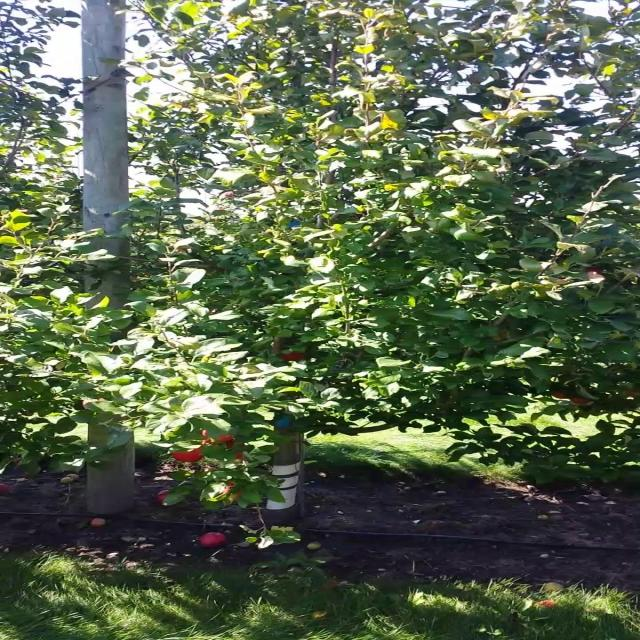apple: (198, 428, 235, 445), (170, 448, 206, 464), (276, 348, 306, 363), (220, 484, 242, 501), (234, 440, 249, 460), (84, 396, 107, 405), (589, 268, 604, 280), (284, 356, 306, 363), (575, 396, 592, 405), (554, 392, 569, 400), (625, 388, 638, 397), (227, 192, 235, 199)
